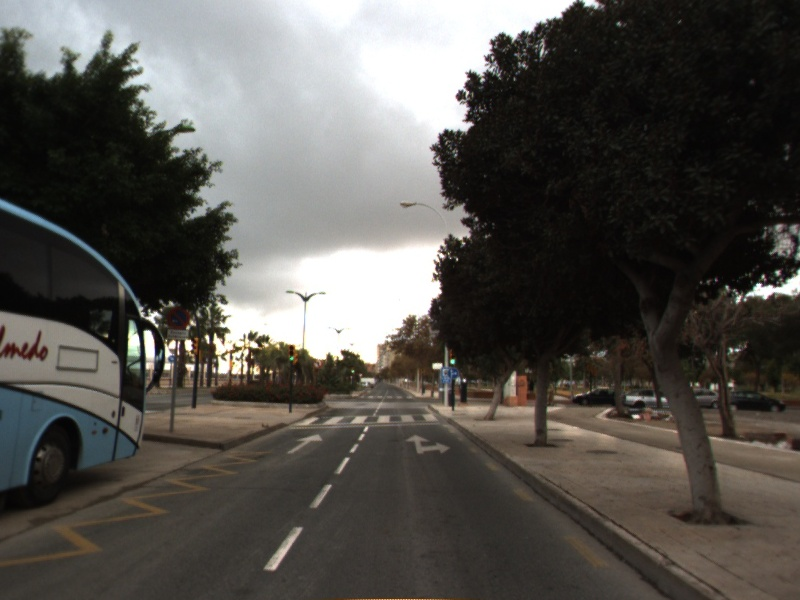STRAIGHT: (285, 432, 324, 456)
STRAIGHT_RIGHT: (403, 433, 453, 456)
